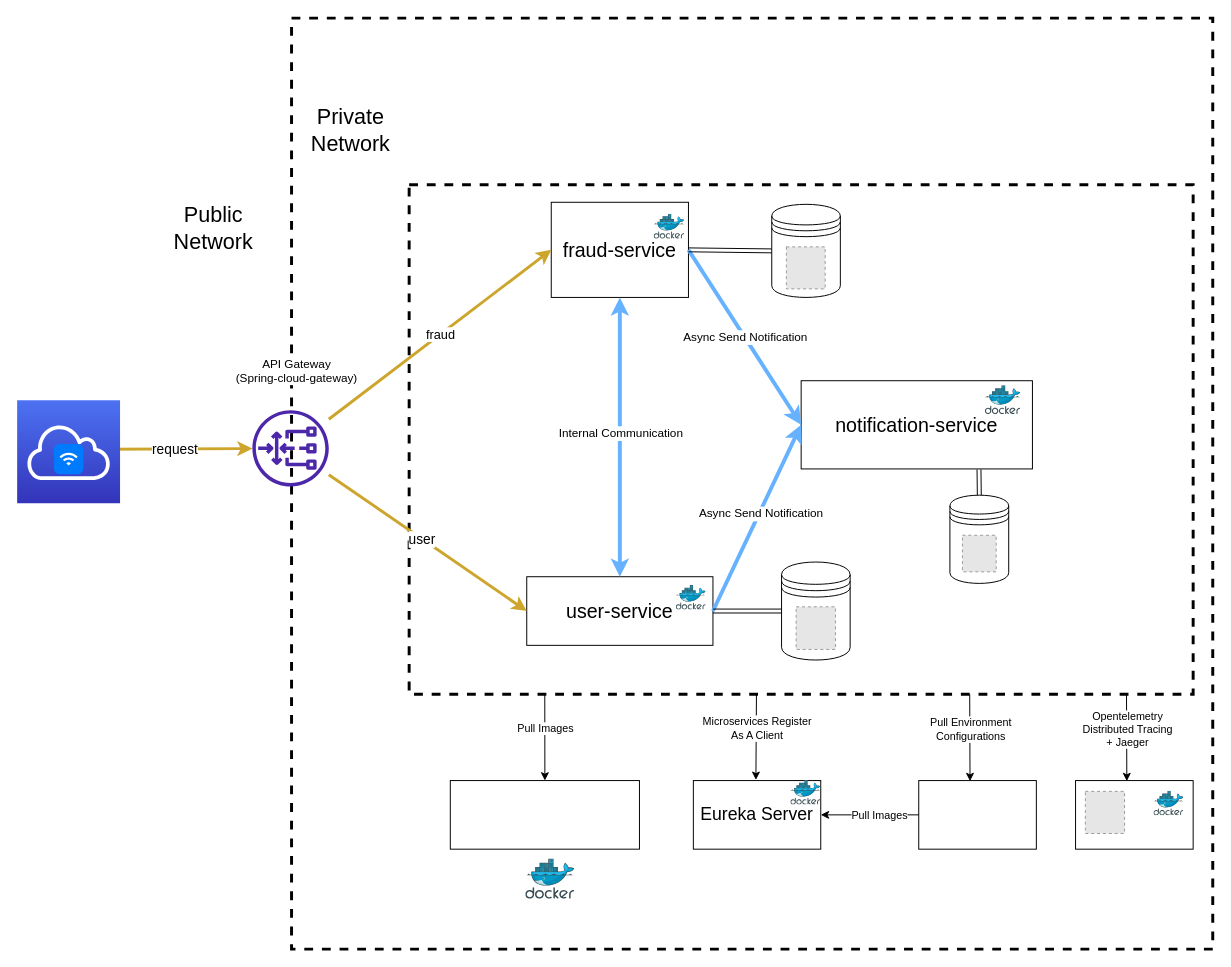
The diagram is 1231 pixels wide and 967 high, and some of its shapes have lost their labels. Grey dashed boxes stand in for pictures. Each missing label, with the box of its shape:
Config Server: (918, 780, 1036, 849)
Private Docker Registry: (449, 780, 639, 849)
